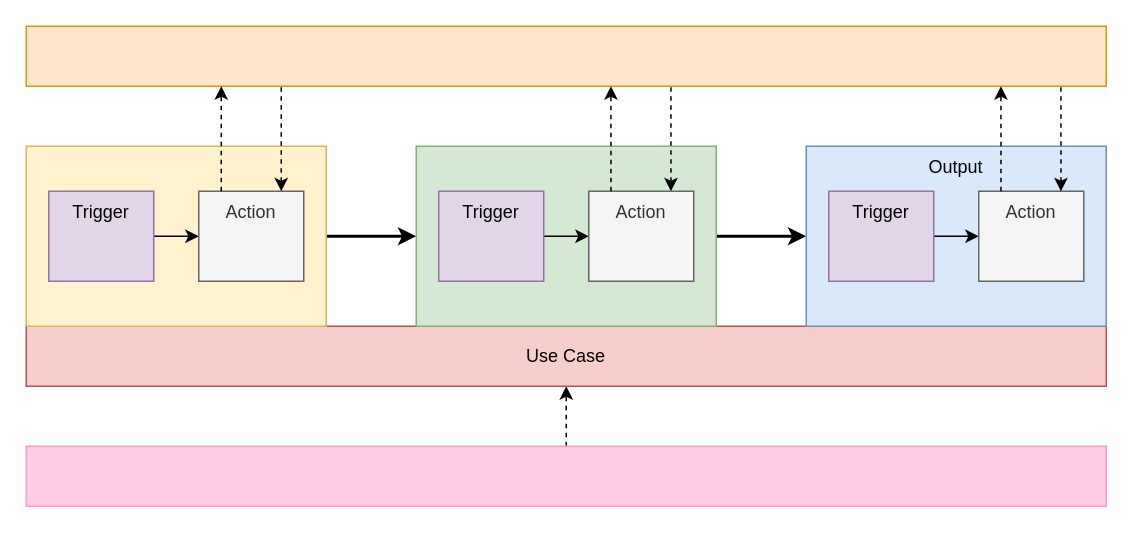
This 1133x533 diagram has some shape labels left out. The box of each missing label's shape, as (x1, y1, x2, y2) in pixels:
Cycle: (25, 445, 1106, 506)
Input: (25, 145, 326, 326)
Knowledge: (25, 25, 1106, 86)
Process: (415, 145, 716, 326)
